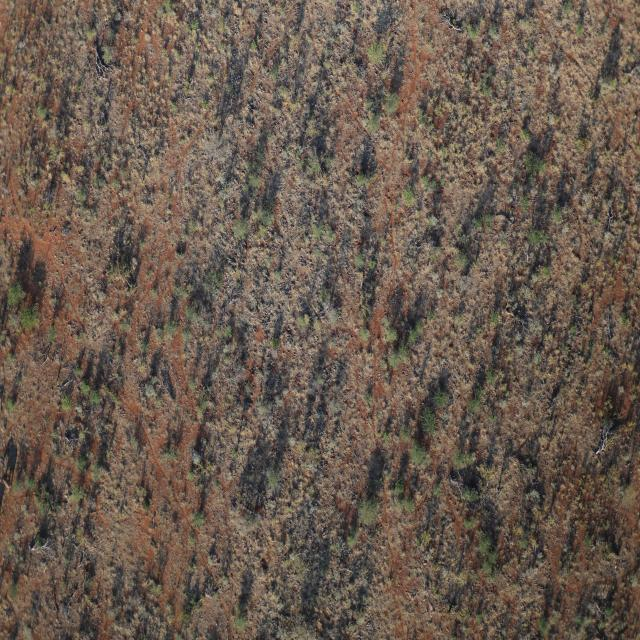elephant: (0, 476, 11, 490)
